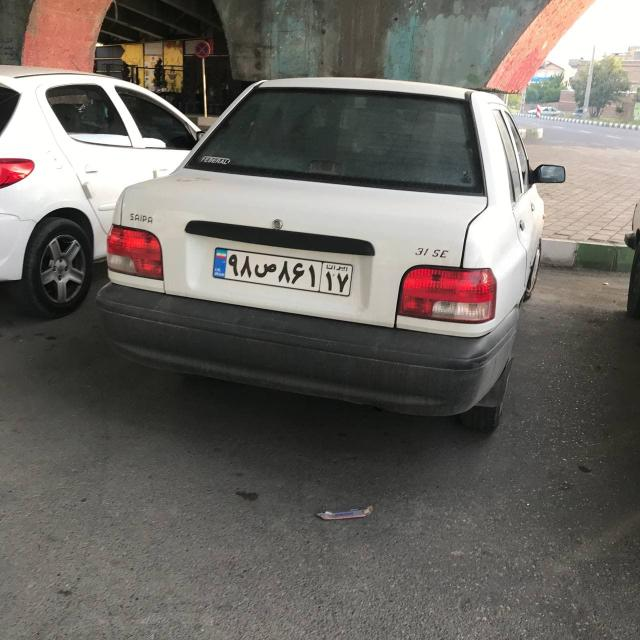Plates: (212, 248, 353, 296)
